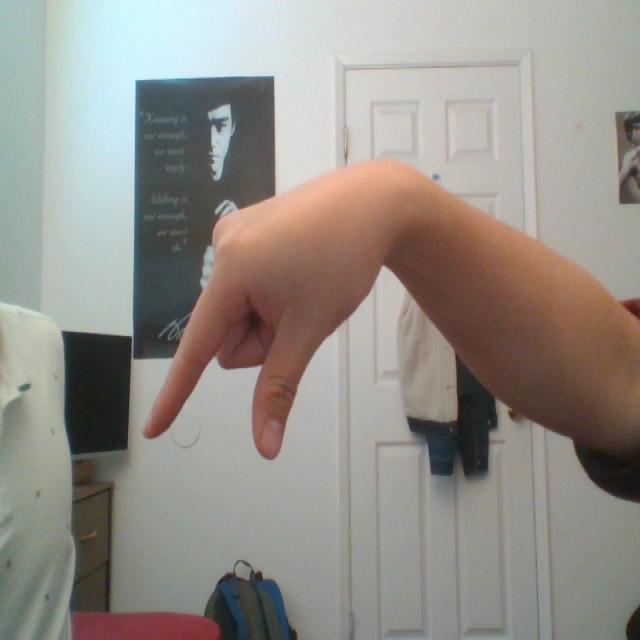Q: (128, 121, 465, 472)
